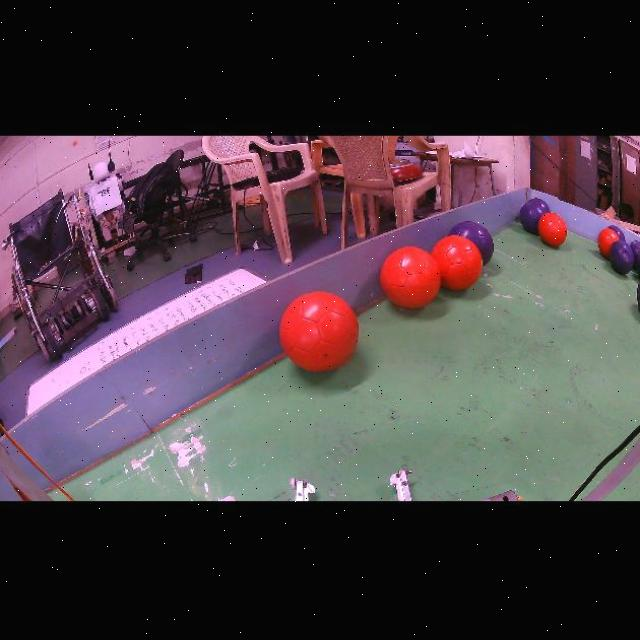P: (449, 220, 493, 264), (520, 197, 551, 233), (609, 239, 634, 273), (608, 224, 626, 240), (629, 239, 640, 259)
R: (280, 291, 359, 371), (380, 247, 441, 308), (431, 234, 482, 290), (538, 212, 567, 245), (598, 228, 619, 258)
